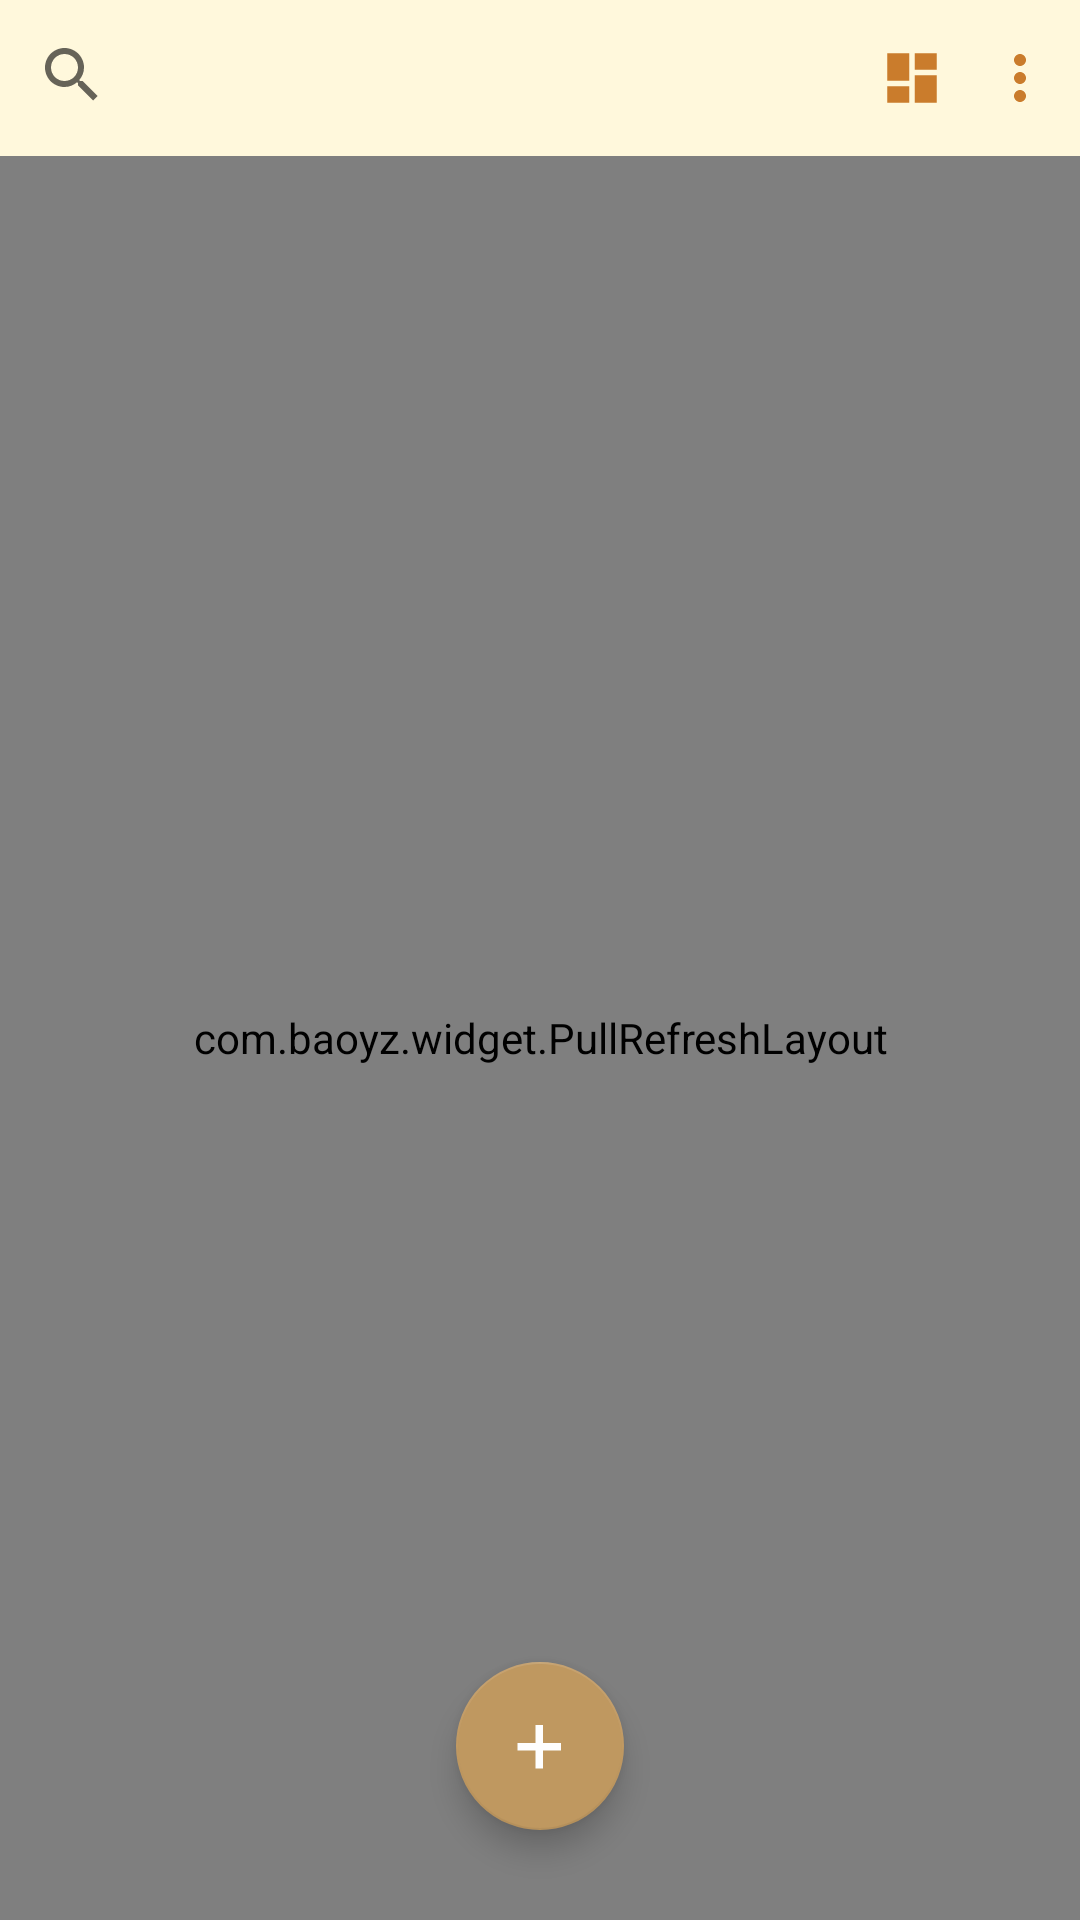

Locate icon controls on the screen. Image size 1080*1920, boxes as (x1, y1, x2, y2).
add: (456, 1662, 624, 1830)
dashboard: (887, 53, 937, 103)
more vert: (1014, 54, 1026, 102)
